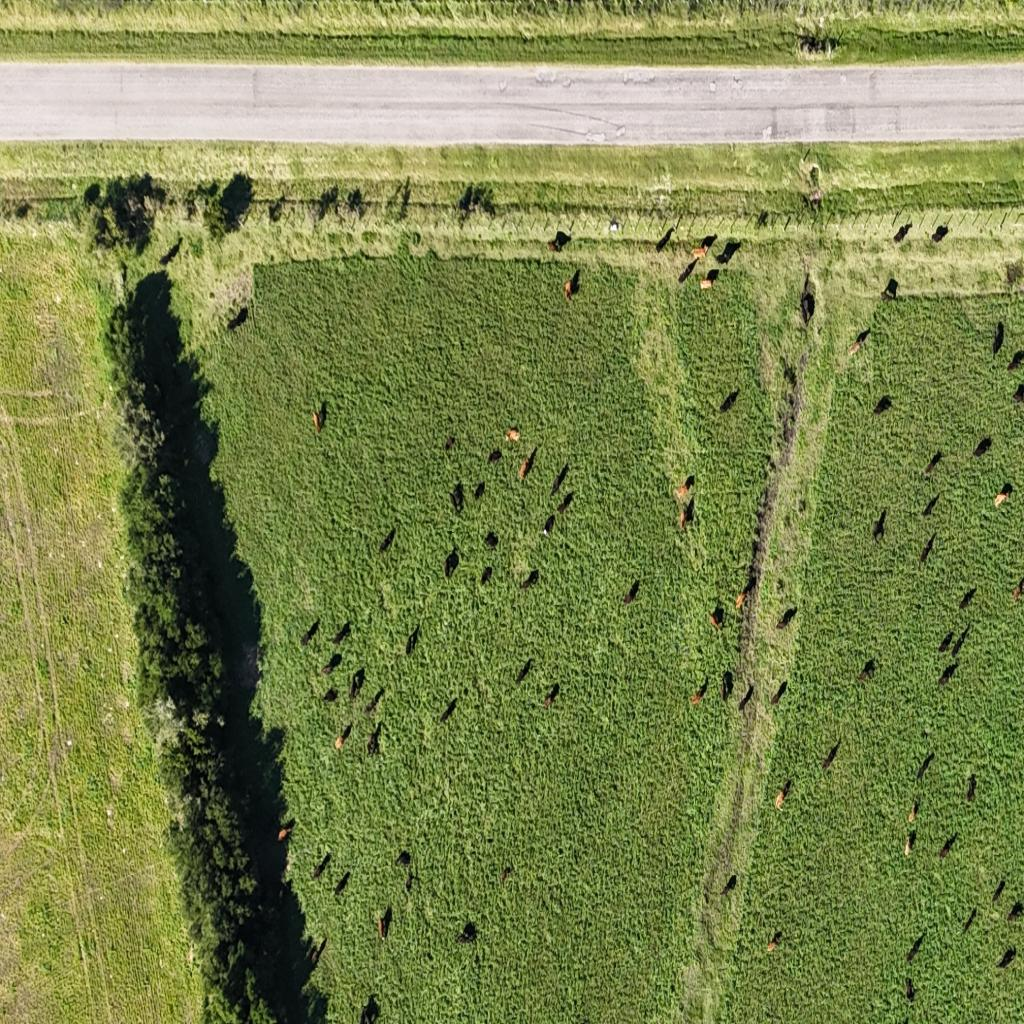cow: (716, 240, 741, 266), (520, 447, 538, 482), (550, 462, 569, 495), (822, 740, 840, 774), (774, 777, 792, 811), (916, 749, 934, 783), (907, 930, 924, 963), (872, 508, 888, 543), (547, 230, 570, 254), (309, 936, 326, 968), (655, 226, 675, 253), (376, 908, 392, 941), (920, 532, 936, 565), (227, 306, 248, 331), (800, 291, 815, 326), (334, 723, 352, 752), (360, 995, 378, 1024), (719, 388, 739, 414), (938, 661, 958, 687), (849, 330, 869, 356), (349, 668, 365, 700), (542, 682, 560, 710), (856, 659, 877, 683), (776, 606, 797, 630), (366, 688, 384, 716), (710, 604, 726, 635), (300, 620, 319, 646), (770, 679, 788, 706), (455, 922, 477, 944), (322, 651, 343, 674), (996, 946, 1017, 969), (444, 548, 459, 580), (738, 683, 754, 713), (623, 578, 640, 606), (333, 870, 350, 898), (678, 259, 697, 284), (958, 586, 977, 611), (332, 620, 350, 646), (314, 854, 332, 880), (939, 833, 957, 859), (924, 450, 942, 476), (872, 395, 893, 417), (972, 436, 993, 458), (695, 236, 716, 258), (674, 478, 694, 501), (378, 528, 394, 556), (691, 679, 707, 707), (962, 907, 978, 935), (515, 659, 532, 685), (406, 625, 420, 656), (992, 320, 1004, 356), (922, 493, 939, 518), (366, 724, 378, 759), (721, 669, 733, 704), (440, 698, 456, 724), (893, 222, 911, 244), (883, 277, 899, 301), (931, 224, 950, 244), (557, 493, 573, 516), (311, 406, 324, 434), (994, 878, 1008, 904), (521, 569, 538, 590), (683, 498, 694, 530), (159, 246, 173, 271), (722, 874, 737, 897), (994, 488, 1011, 508), (542, 513, 555, 539), (452, 485, 464, 513), (904, 828, 916, 856), (966, 773, 977, 803), (702, 267, 719, 286), (938, 630, 952, 653), (768, 930, 782, 953), (278, 822, 294, 841), (15, 200, 30, 220), (907, 798, 918, 825), (483, 532, 499, 550), (479, 566, 493, 586), (952, 632, 962, 658), (322, 688, 338, 704), (397, 851, 411, 869), (905, 976, 915, 1001), (564, 274, 573, 301), (735, 590, 747, 610), (1014, 349, 1024, 372), (1014, 900, 1024, 923), (487, 448, 501, 464), (690, 246, 706, 260), (501, 866, 512, 886), (474, 480, 484, 502), (506, 427, 520, 442), (445, 435, 456, 453), (1016, 578, 1024, 602), (405, 871, 413, 893)
